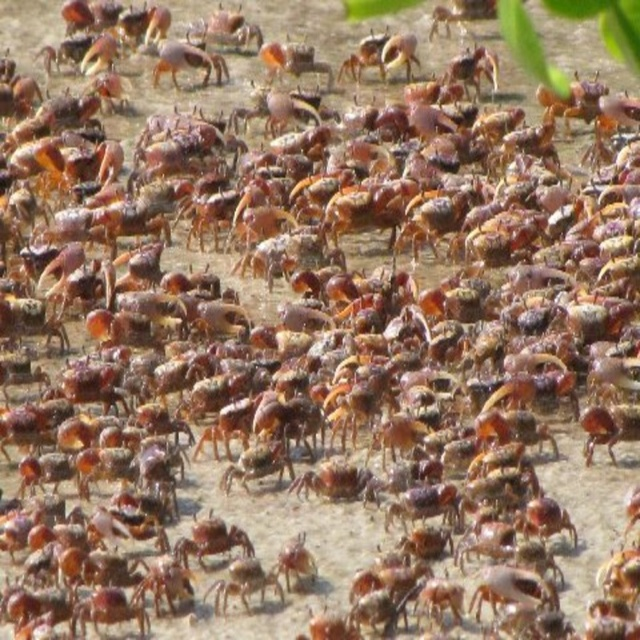Crab: (0, 0, 639, 638)
